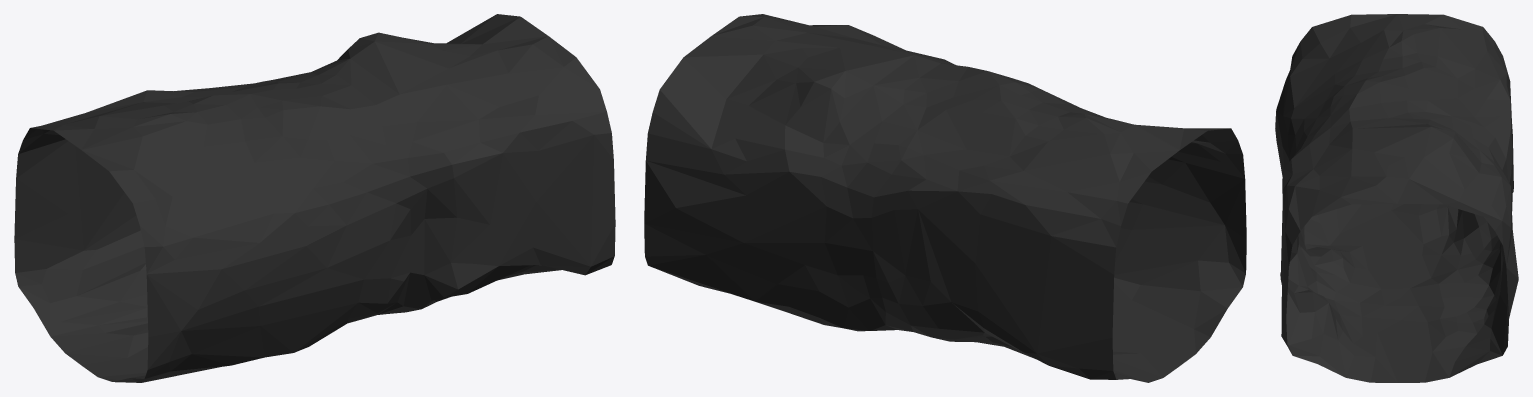
File: Cave_Straight.fbx
3 views of the same model, side by side, from view 1: azimuth 30°, elevation 25°; view 2: azimuth 150°, elevation 25°; view 3: azimuth 270°, elevation 25° (orthographic). The views are drawn at different scales.
Parts seen in each view (by area): view 1: Mouldar Straight; view 2: Mouldar Straight; view 3: Mouldar Straight.
Part boxes in pixels (x1,y1,x2,y2): Mouldar Straight: (14, 14, 615, 382); Mouldar Straight: (644, 14, 1246, 382); Mouldar Straight: (1275, 14, 1518, 382).
Bounding box in the file's own units: 434 × 800 × 381.
